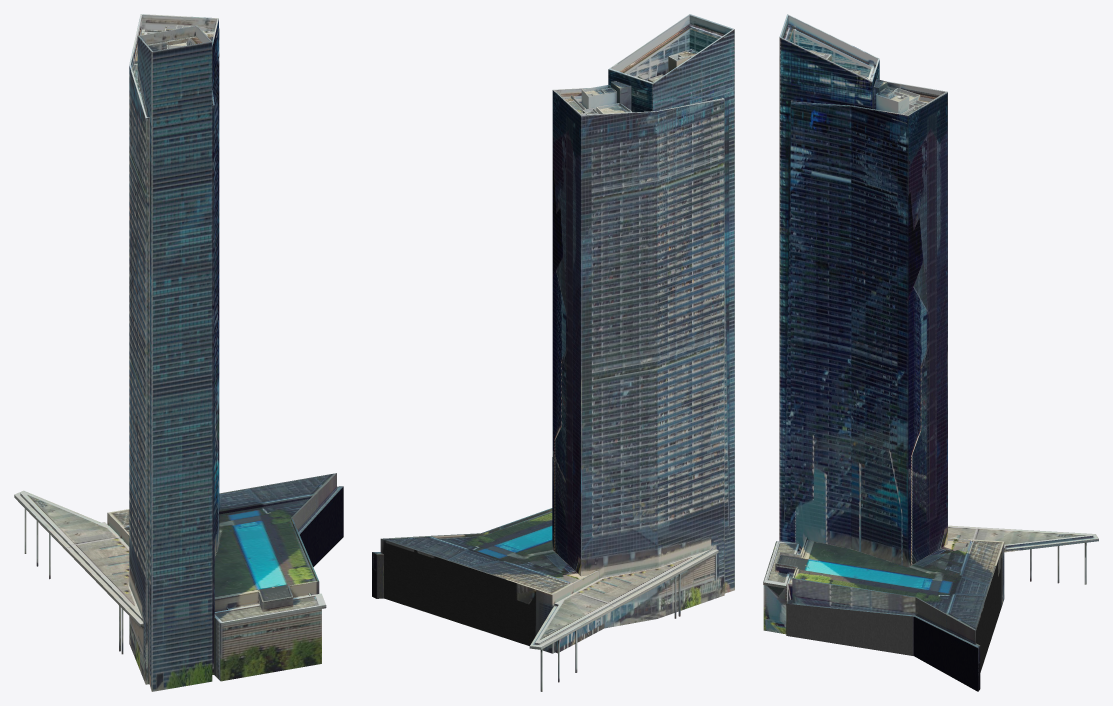
The picture shows the model from 3 angles, left to right: view 1: azimuth 30°, elevation 25°; view 2: azimuth 150°, elevation 25°; view 3: azimuth 270°, elevation 25°; orthographic projection. The views are drawn at different scales.
Parts seen in each view (by area): view 1: 3_0.glb; view 2: 3_0.glb; view 3: 3_0.glb.
Part boxes in pixels (x1,y1,x2,y2): 3_0.glb: [14, 14, 343, 691]; 3_0.glb: [372, 14, 734, 691]; 3_0.glb: [763, 14, 1098, 691].
Bounding box in the file's own units: 110 × 223 × 123.
1 material, 1 textured.
